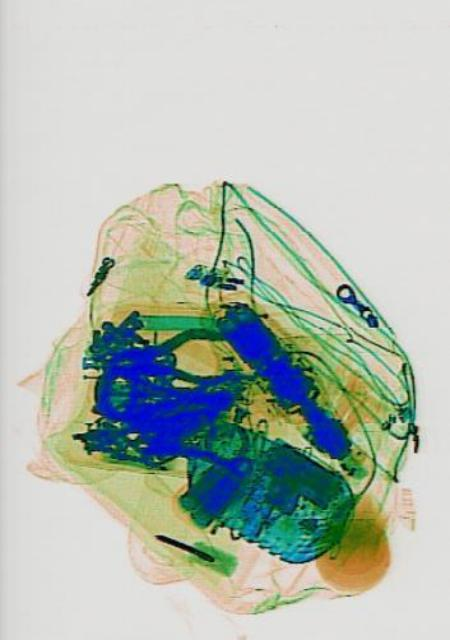Pliers: (110, 323, 233, 387)
Wrench: (130, 432, 248, 476)
